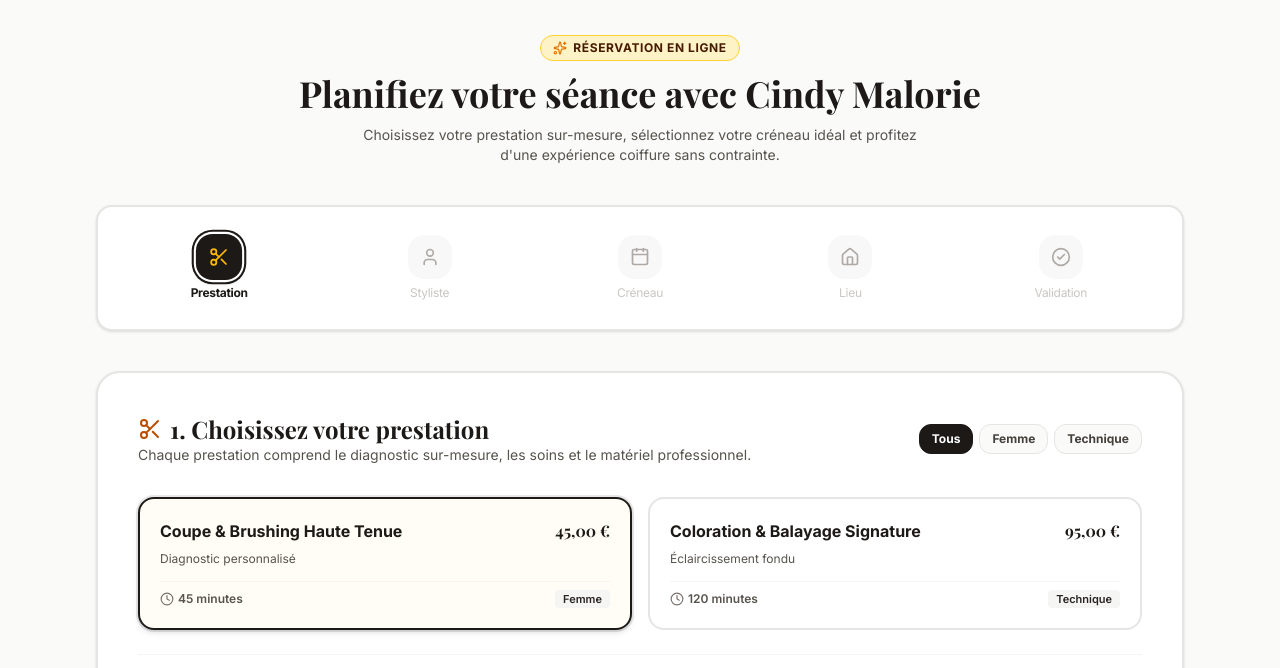
Test case: Reservation Page › affiche les détails et le récapitulatif avant confirmation finale
Note:  Étape 1
Click the text "Coupe & Brushing Haute Tenue" at (281, 531), box [160, 519, 402, 543]
(page scrolled)
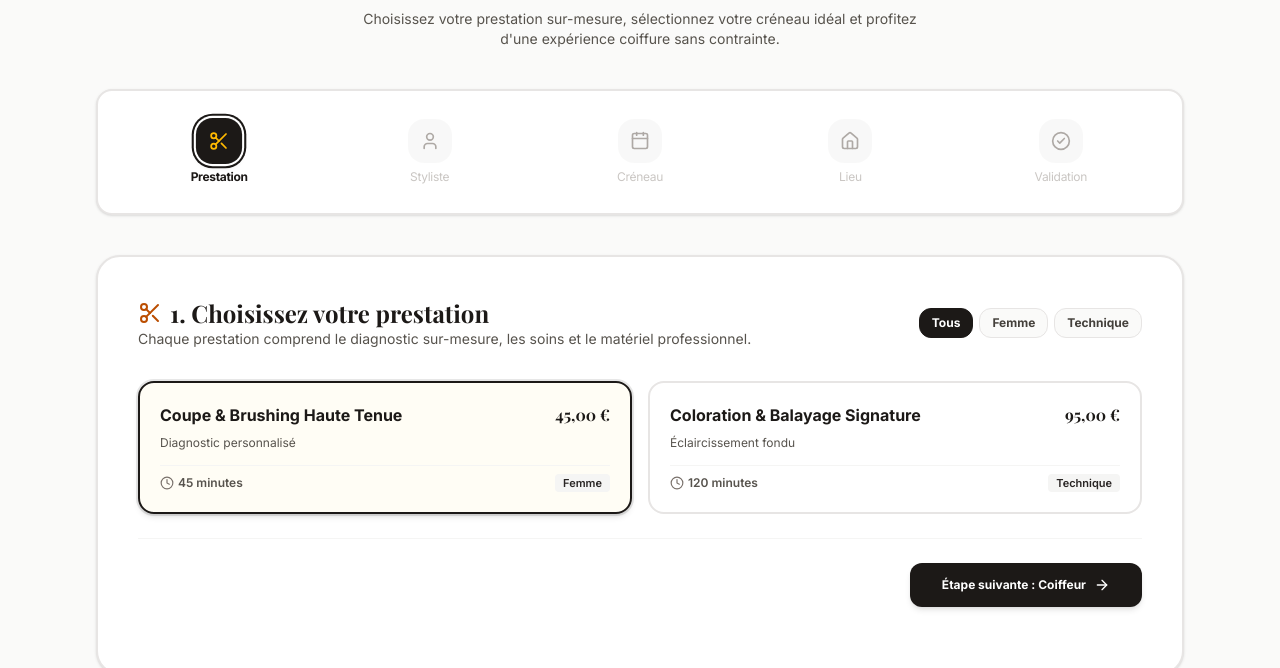
Click the button "Étape suivante : Coiffeur" at (1026, 585), box [910, 563, 1142, 607]
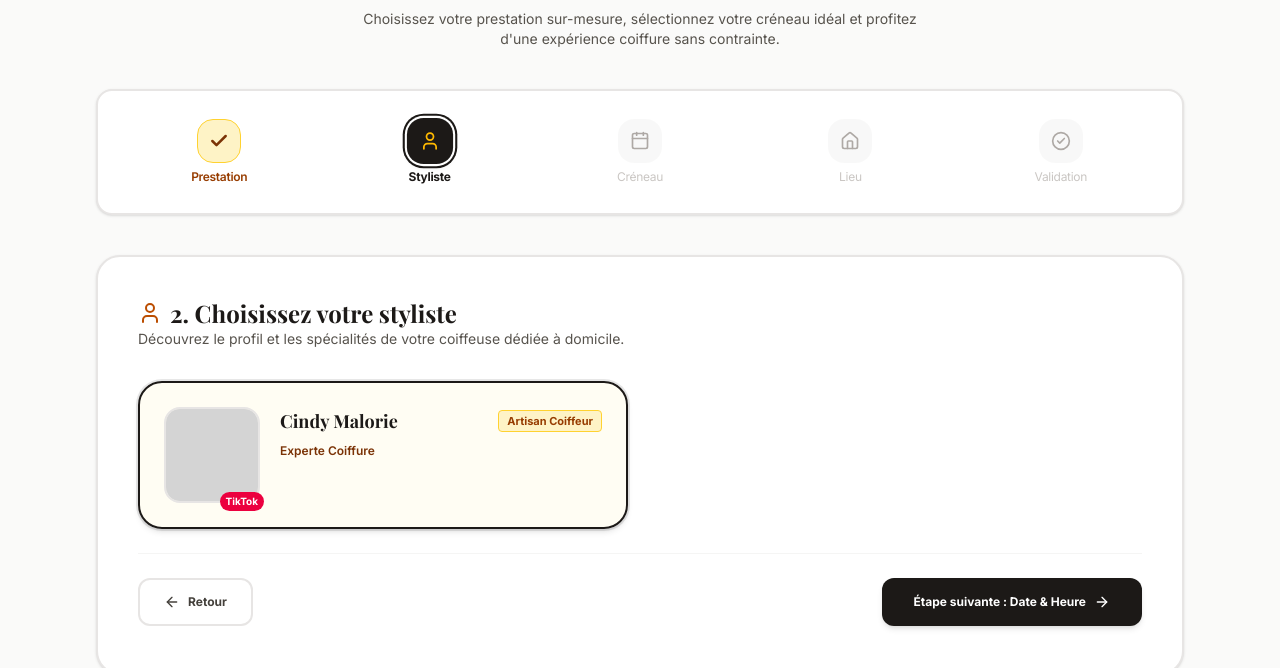
Now the heading "2. Choisissez votre styliste" is shown, box [138, 297, 457, 329]
Note:  Étape 2
Click the button "Étape suivante : Date & Heure" at (1012, 602), box [882, 578, 1142, 626]
(page scrolled)
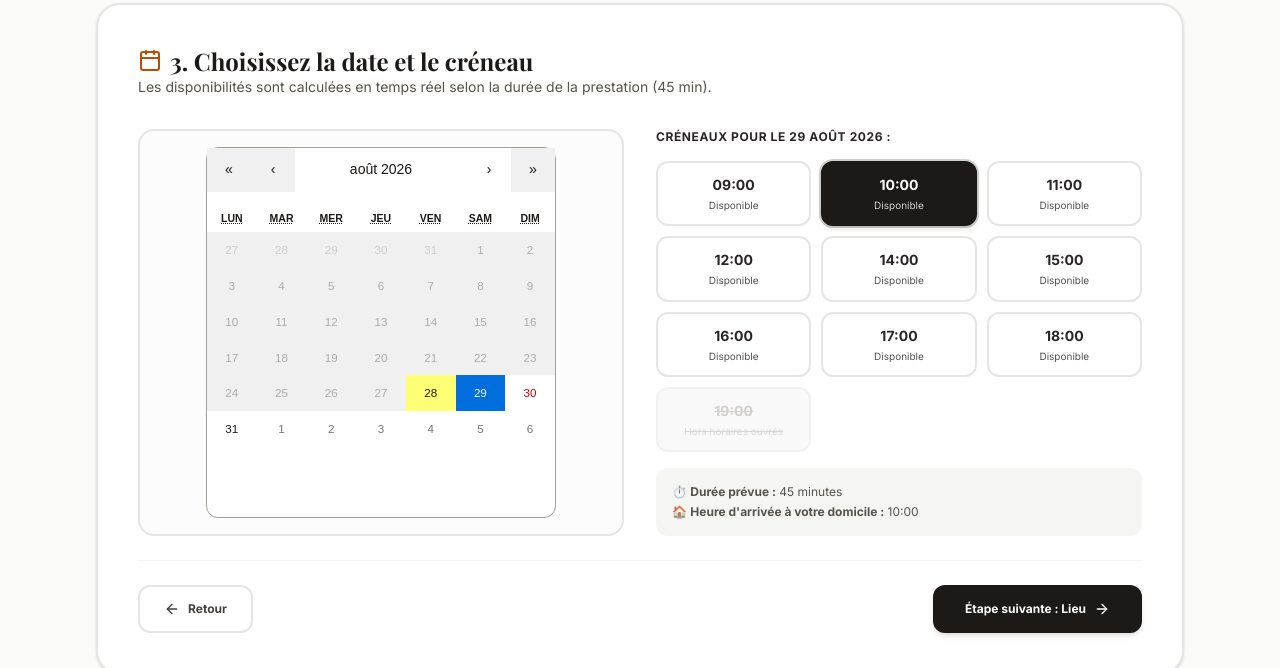
Now the heading "3. Choisissez la date et le créneau" is shown, box [138, 45, 533, 77]
Note:  Étape 3
Click the button "Étape suivante : Lieu" at (1038, 609), box [933, 585, 1142, 633]
(page scrolled)
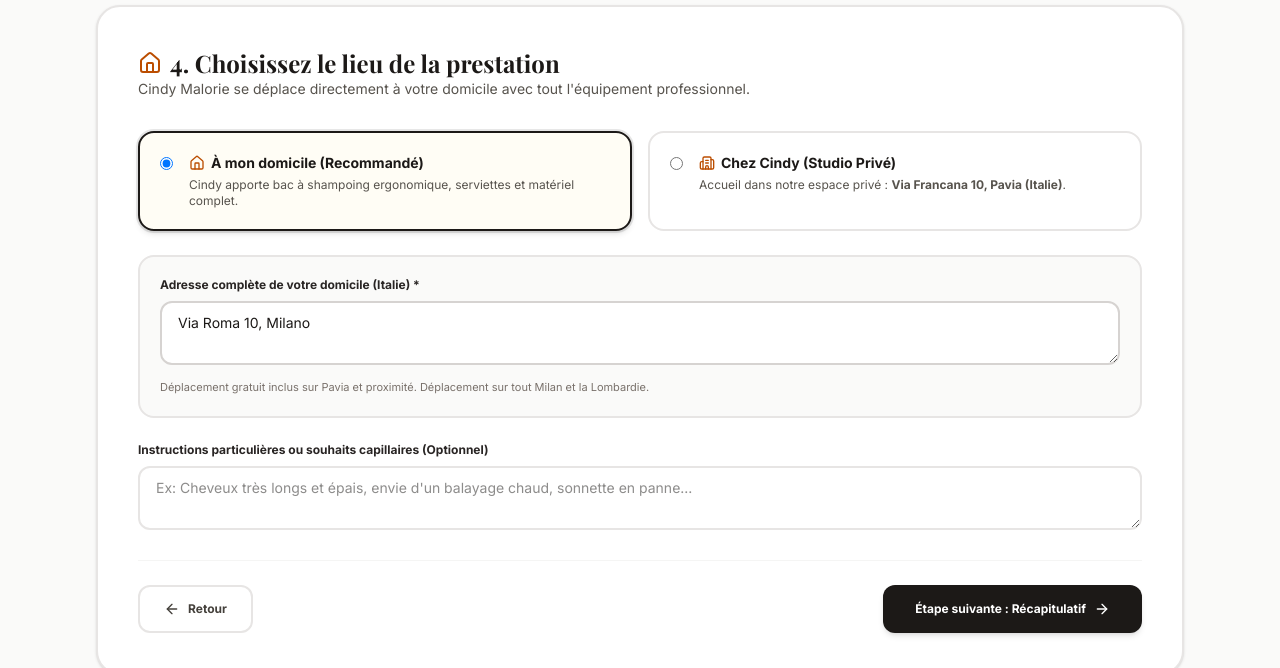
Now the heading "4. Choisissez le lieu de la prestation" is shown, box [138, 47, 560, 79]
Note: Étape 4 (Remplir l'adresse puis avancer)
Replace the text in the text box with placeholder "Ex: Via Roma 15, Milano (Palazzina B, Piano 3, Citofono 12)" with "Via Montenapoleone 8, Milano" at (640, 333), box [160, 301, 1120, 365]
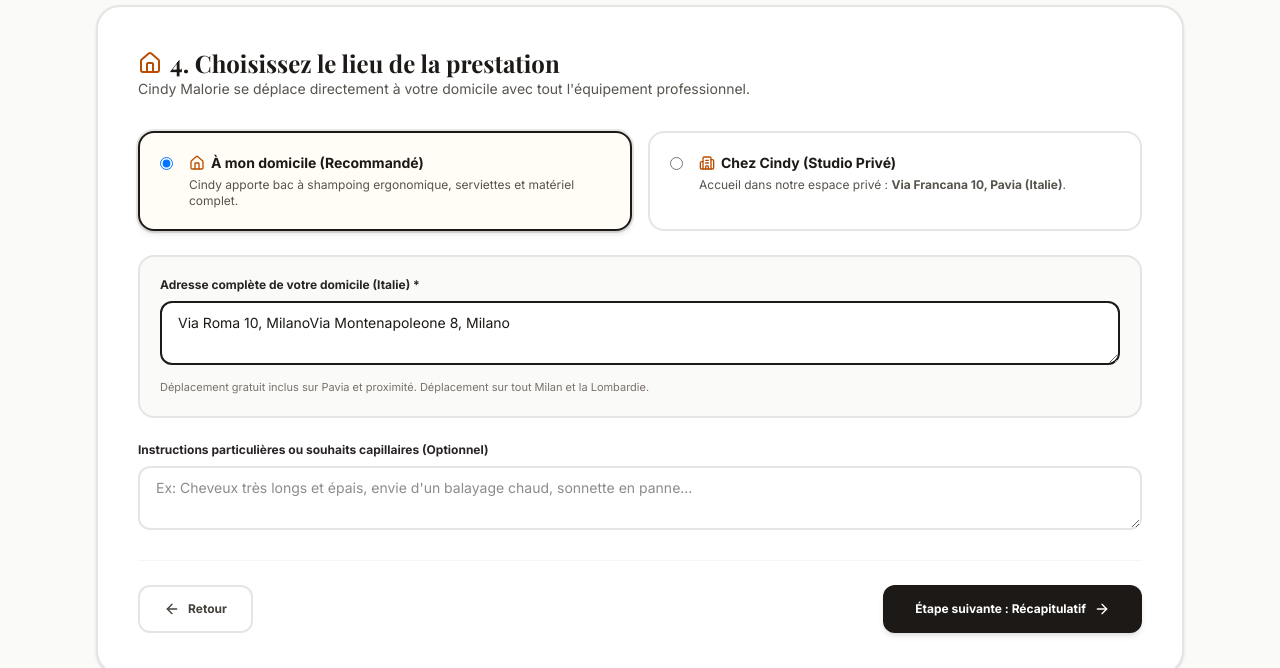
Click the button "Étape suivante : Récapitulatif" at (1013, 608), box [883, 584, 1142, 632]
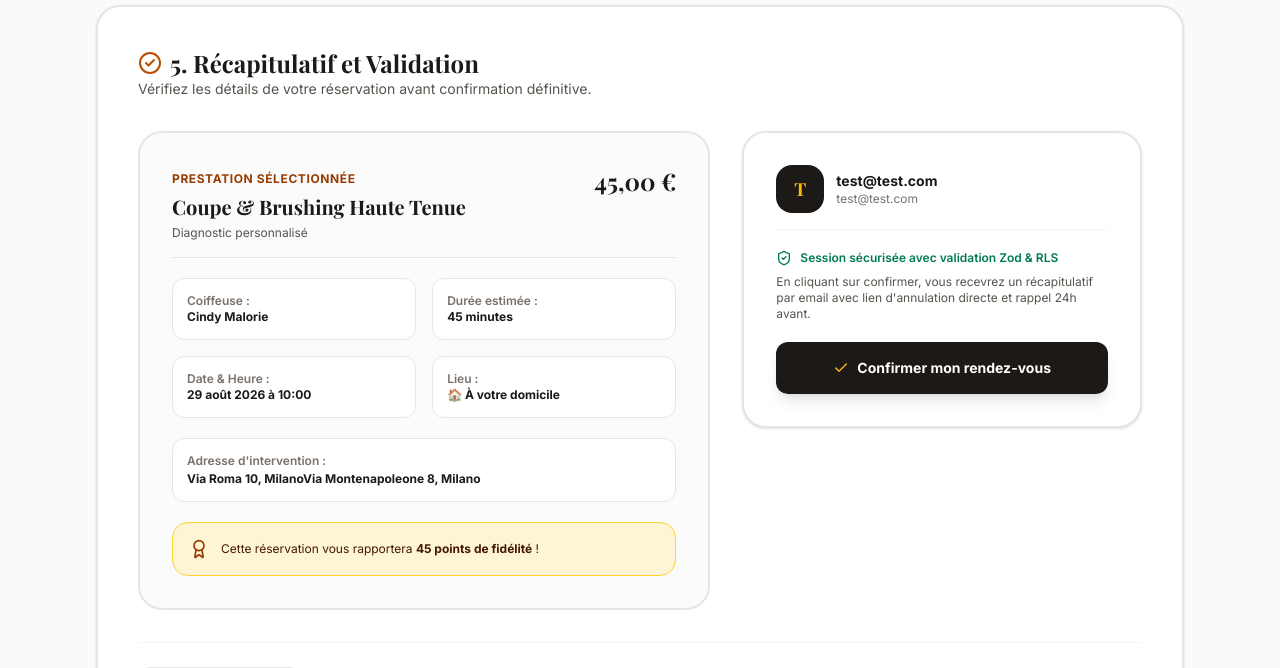
Now the heading "5. Récapitulatif et Validation" is shown, box [138, 47, 479, 79]
Now the button "Confirmer mon rendez-vous" is shown, box [776, 342, 1108, 394]
